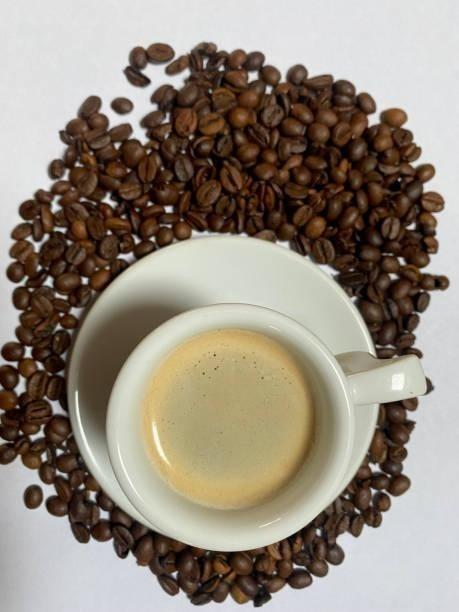cup-handle: (104, 300, 428, 558)
